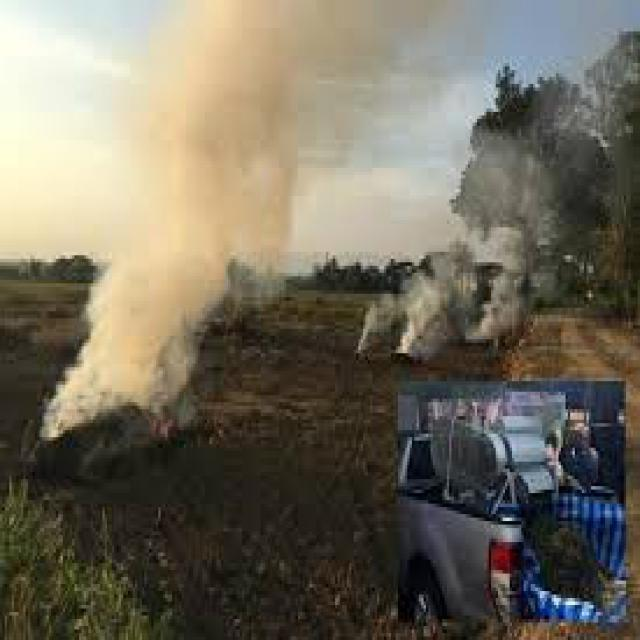Smoke: (39, 0, 392, 445), (376, 166, 552, 360)
